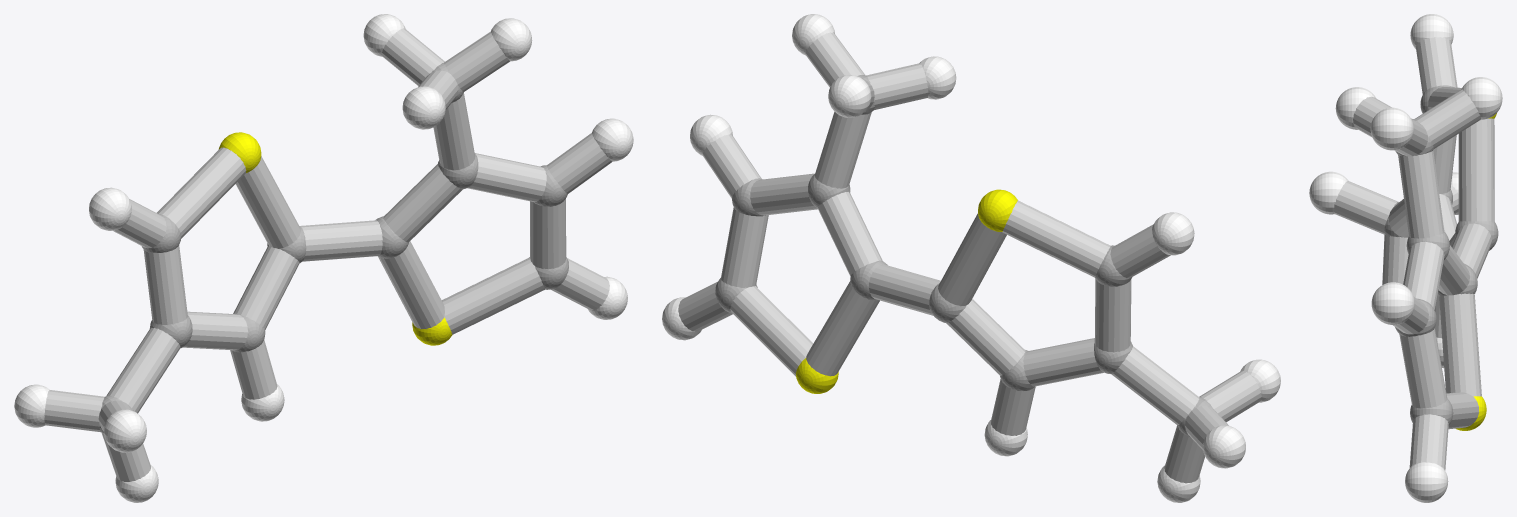
Rendered from Methylthiophene_Phi_25_Theta_20_Methylthiophene.glb.
3 renders of one model, left to right at view 1: azimuth 30°, elevation 25°; view 2: azimuth 150°, elevation 25°; view 3: azimuth 270°, elevation 25°, orthographic.
Parts seen in each view (by area): view 1: grp7965, grp3621, grp1, grp7241; view 2: grp7965, grp3621, grp1, grp7241; view 3: grp7965, grp3621, grp1, grp7241.
Part boxes in pixels (x1,y1,x2,y2): grp7965: (44, 28, 612, 481); grp3621: (14, 14, 633, 502); grp1: (99, 63, 568, 434); grp7241: (218, 132, 452, 345); grp7965: (678, 32, 1261, 483); grp3621: (662, 14, 1280, 502); grp1: (715, 75, 1213, 437); grp7241: (795, 189, 1017, 393); grp7965: (1333, 37, 1494, 470); grp3621: (1309, 14, 1502, 502); grp1: (1384, 85, 1498, 425); grp7241: (1456, 113, 1496, 430).
Bounding box in the file's own units: 9.48 × 6 × 2.68.
